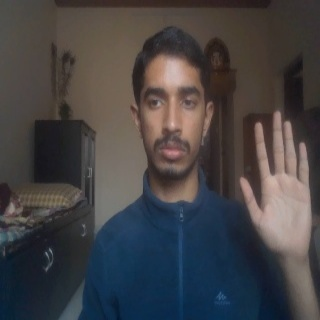Face: (128, 26, 217, 184)
Hello: (238, 109, 314, 263)
